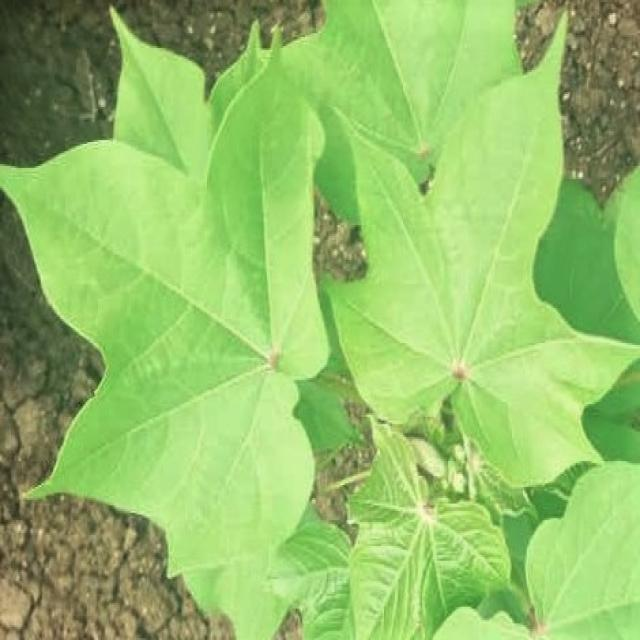Healthy Leaf: (127, 142, 601, 538)
